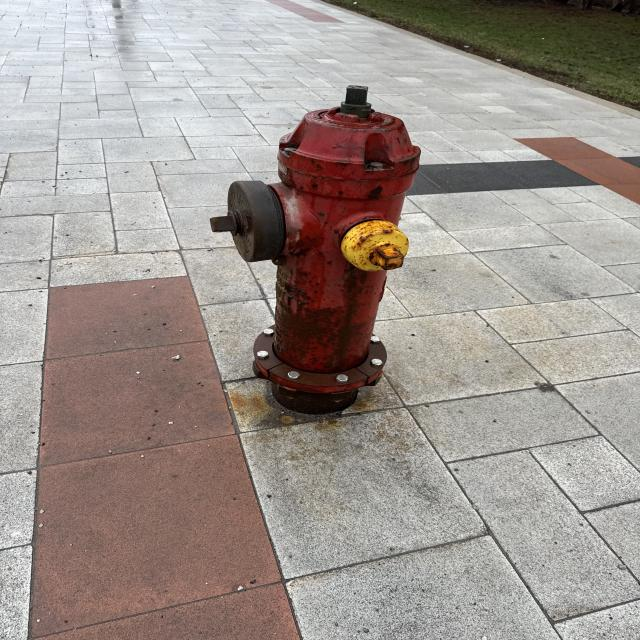Fire hydrant: (209, 84, 423, 415)
